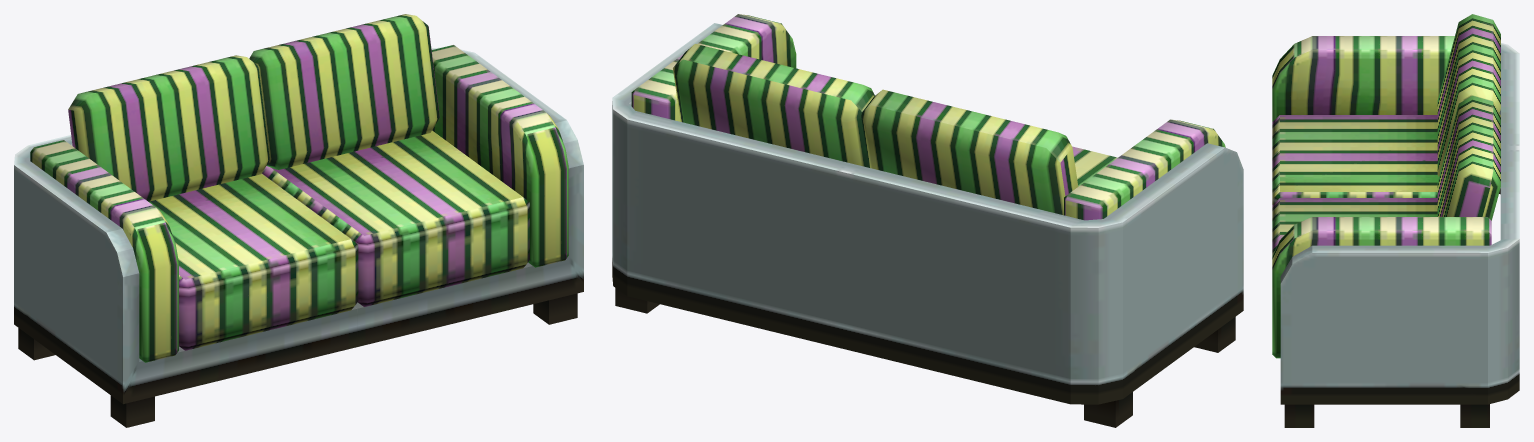
The model's file is furni_0200612_01.FBX.
3 views of the same model, side by side, from view 1: azimuth 30°, elevation 25°; view 2: azimuth 150°, elevation 25°; view 3: azimuth 270°, elevation 25° (orthographic). The views are drawn at different scales.
Visible parts, largest first — view 1: furni_0200612_01; view 2: furni_0200612_01; view 3: furni_0200612_01.
Boxes of the visible parts, <box> form: furni_0200612_01: <box>14,14,583,427</box>; furni_0200612_01: <box>612,14,1243,427</box>; furni_0200612_01: <box>1272,14,1519,427</box>.
Bounding box in the file's own units: 159 × 80.62 × 77.55.
1 material, 1 textured.
